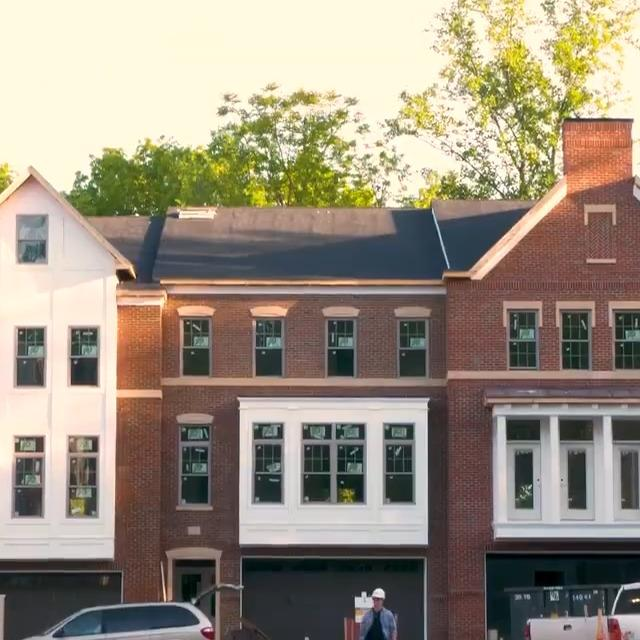Hardhat: (371, 588, 385, 598)
NO-Mask: (373, 601, 383, 607)
NO-Safety Vest: (365, 608, 388, 640)
Person: (360, 587, 396, 640)
vehicle: (0, 582, 245, 640), (525, 578, 640, 640)
